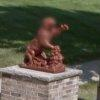Statue: (21, 15, 76, 86)
